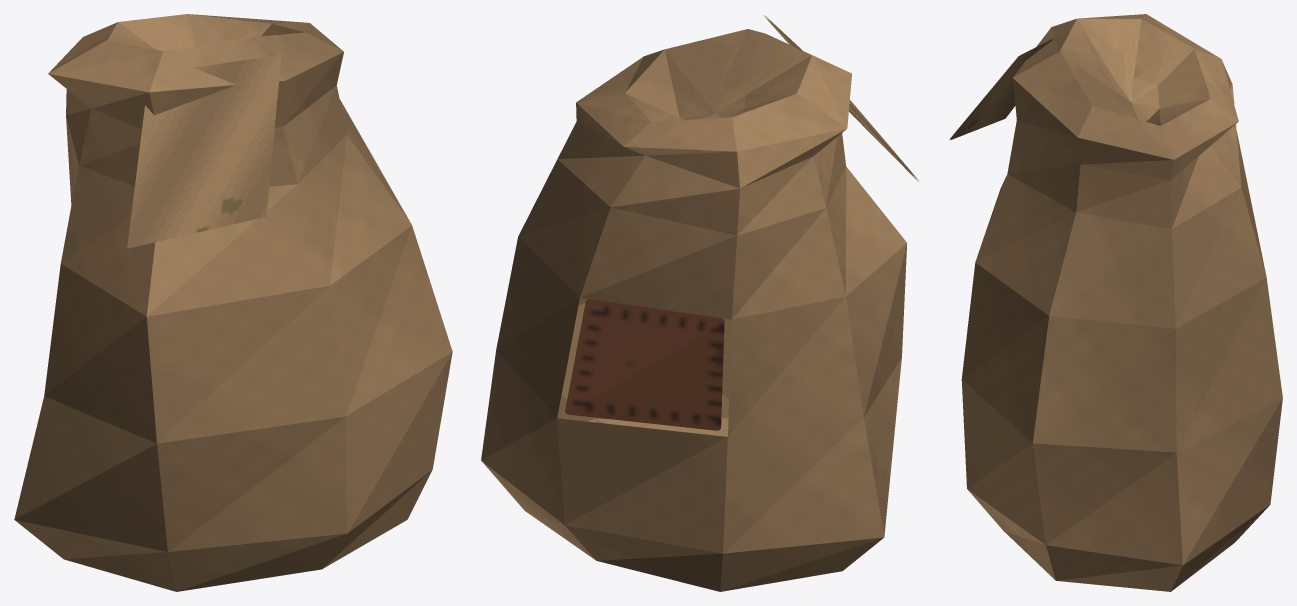
The model's file is SM_PR12_SackLarge.fbx.
3 renders of one model, left to right at view 1: azimuth 30°, elevation 25°; view 2: azimuth 150°, elevation 25°; view 3: azimuth 270°, elevation 25°, orthographic. The views are drawn at different scales.
Parts seen in each view (by area): view 1: PR12_Sack; view 2: PR12_Sack; view 3: PR12_Sack.
Part boxes in pixels (x1,y1,x2,y2): PR12_Sack: (14,14,452,591); PR12_Sack: (481,15,918,591); PR12_Sack: (949,14,1282,591).
Size of the model in its own units: 0.6095 by 0.7333 by 0.4794.
